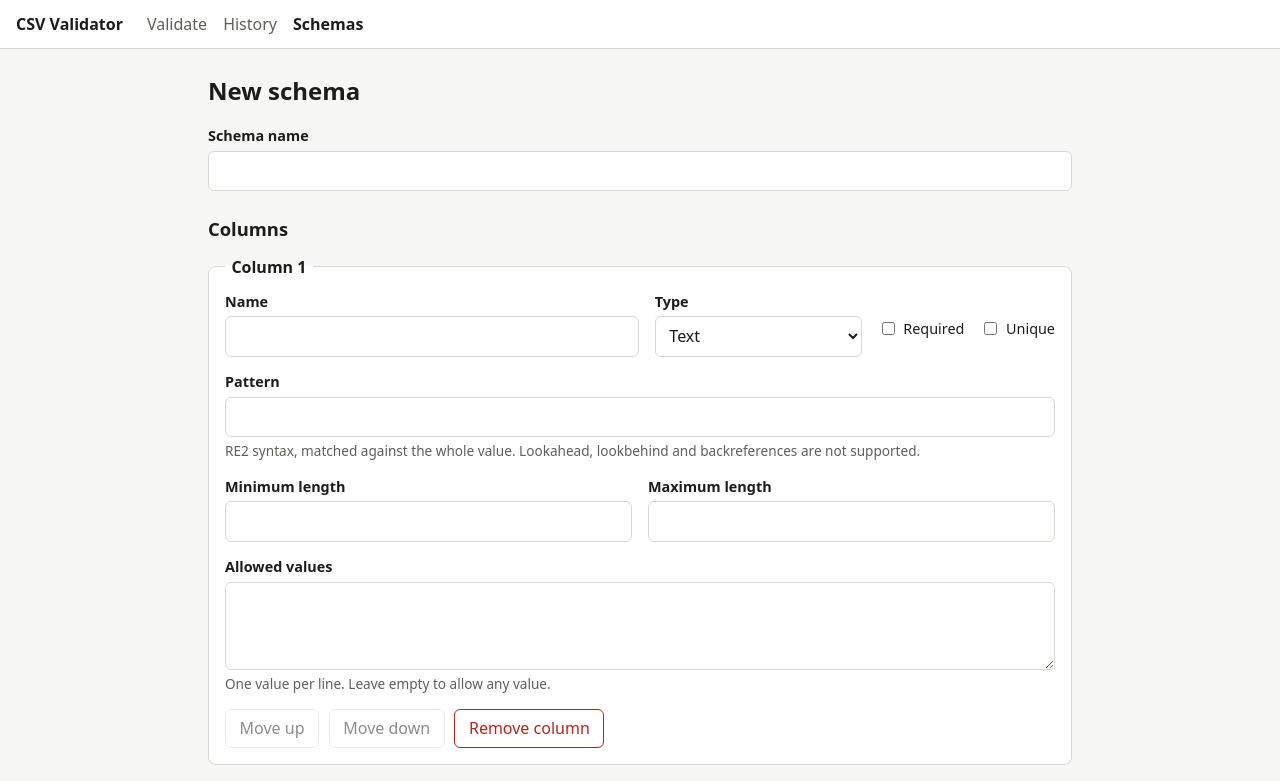
Test: SchemaEditor: fields follow the column type › shows the date format and date bounds for dates, noting that ISO is always accepted
Select "Date" in the dropdown labelled "Type" at {"x": 758, "y": 336}, box [655,316,862,357]
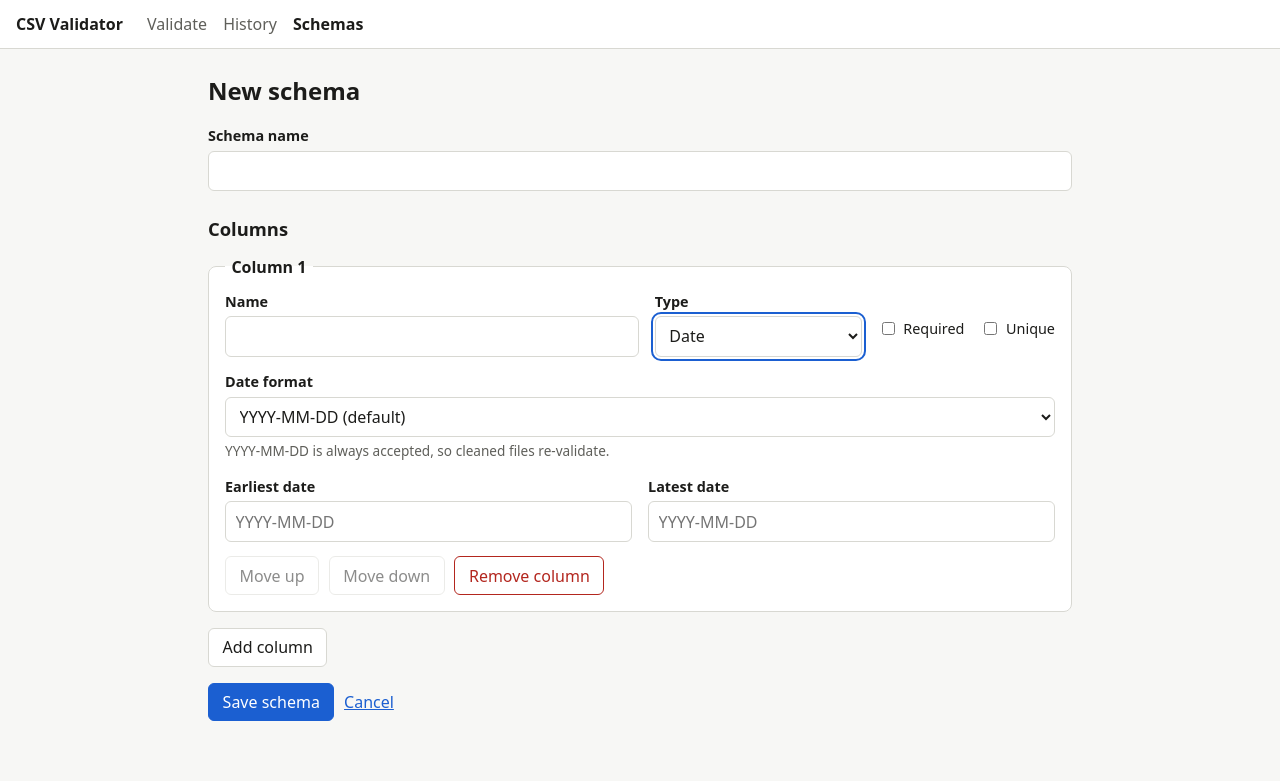
Result: the dropdown labelled "Date format" shows "YYYY-MM-DD (default)" at [225,397,1055,437]
Result: the text "YYYY-MM-DD is always accepted, so cleaned files re-validate." is shown at [225,441,610,460]
Result: the label labelled "Allowed values" is gone
